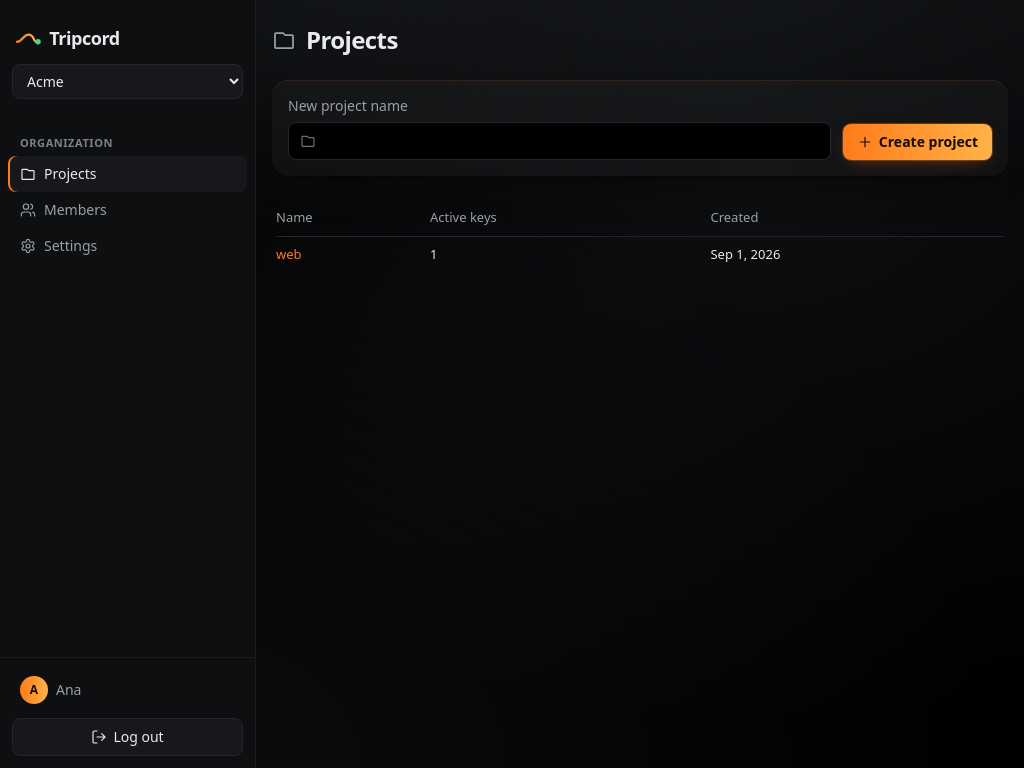
Scenario: projects page › creates a project and shows its key until dismissed
Type "api" into the field labelled "New project name" at (559, 141), box [288, 122, 831, 160]
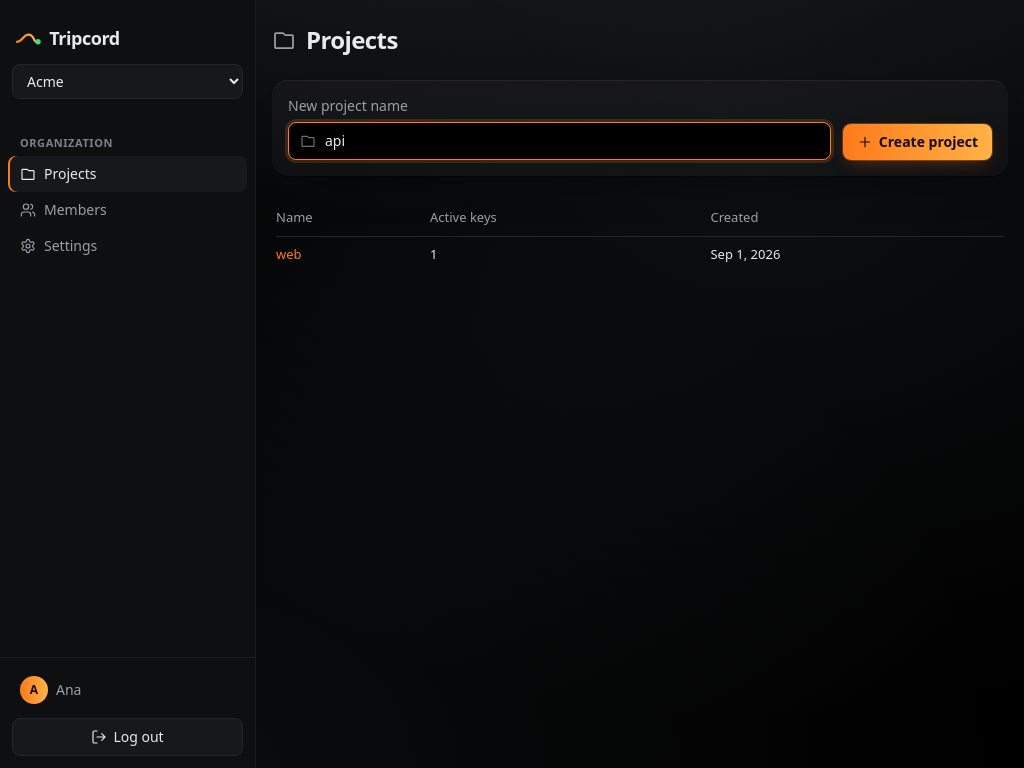
Click the button "Create project" at (917, 142), box [843, 124, 992, 160]
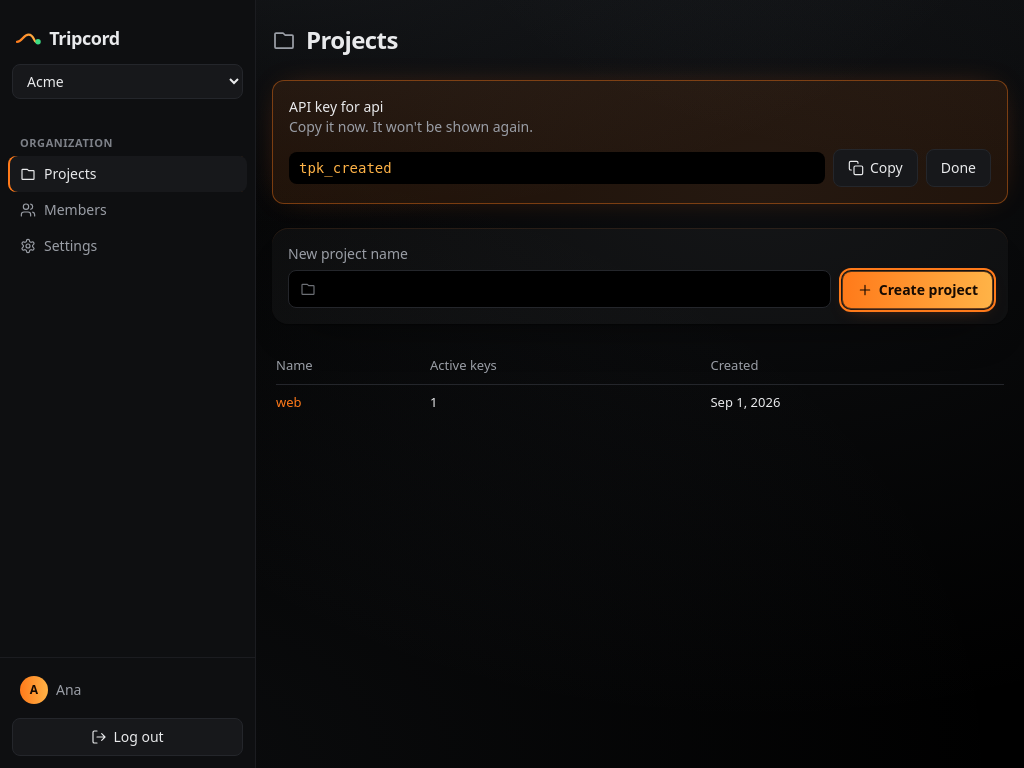
Now the text "tpk_created" is shown, box [289, 152, 825, 184]
Now the text "Copy it now. It won't be shown again." is shown, box [289, 117, 533, 136]
Click the button "Done" at (958, 168), box [926, 149, 991, 187]
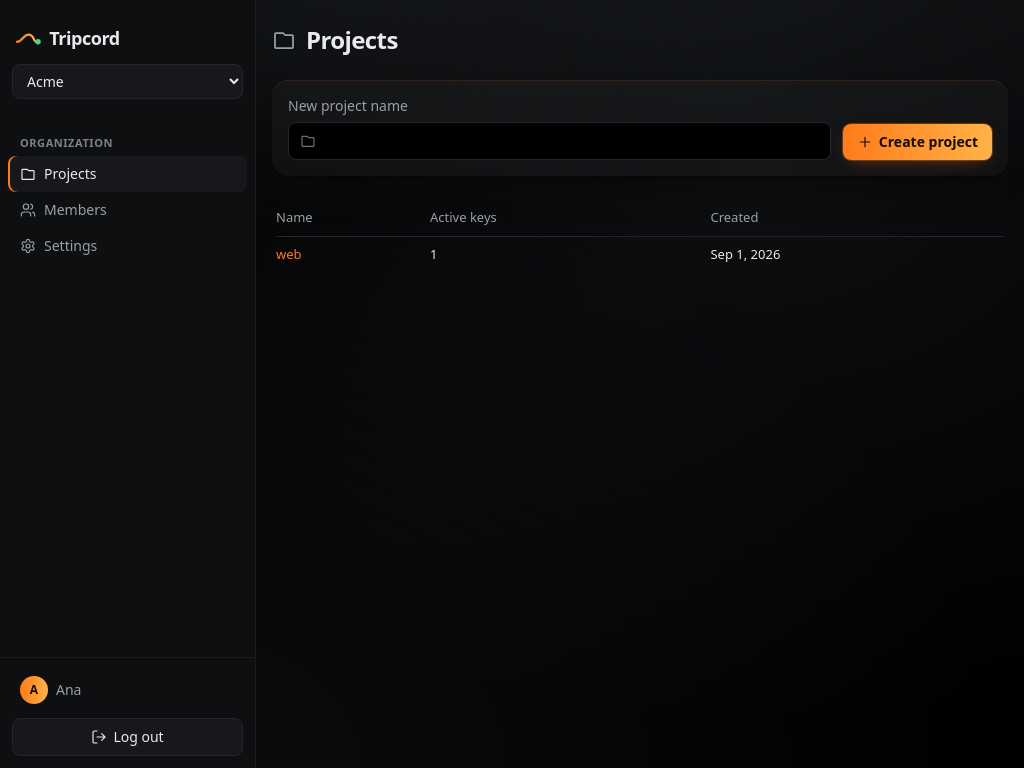
Now the text "tpk_created" is gone
